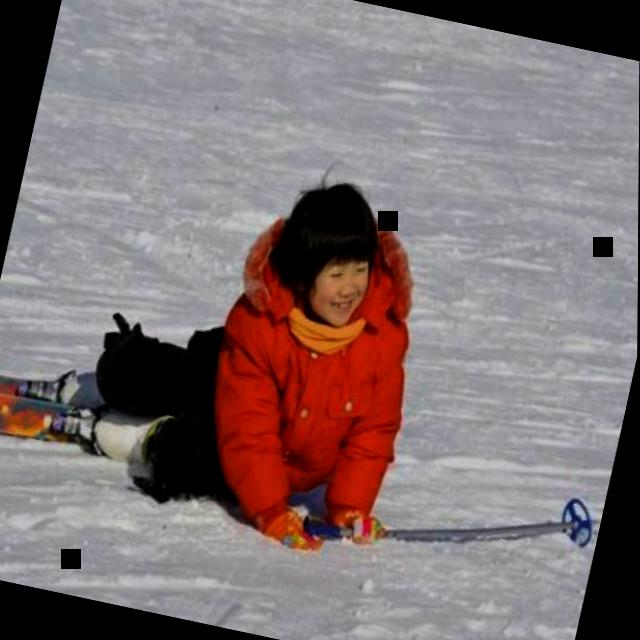Fall-Detected: (0, 101, 482, 580)
